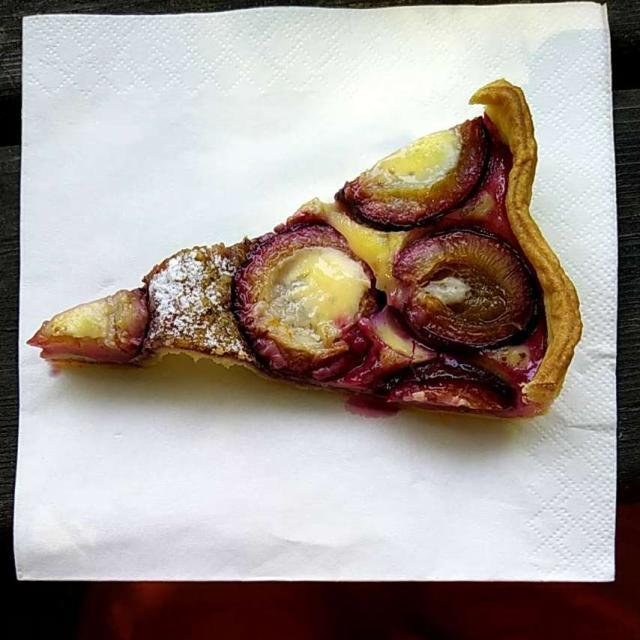pie: (29, 80, 576, 405), (40, 90, 570, 406)
